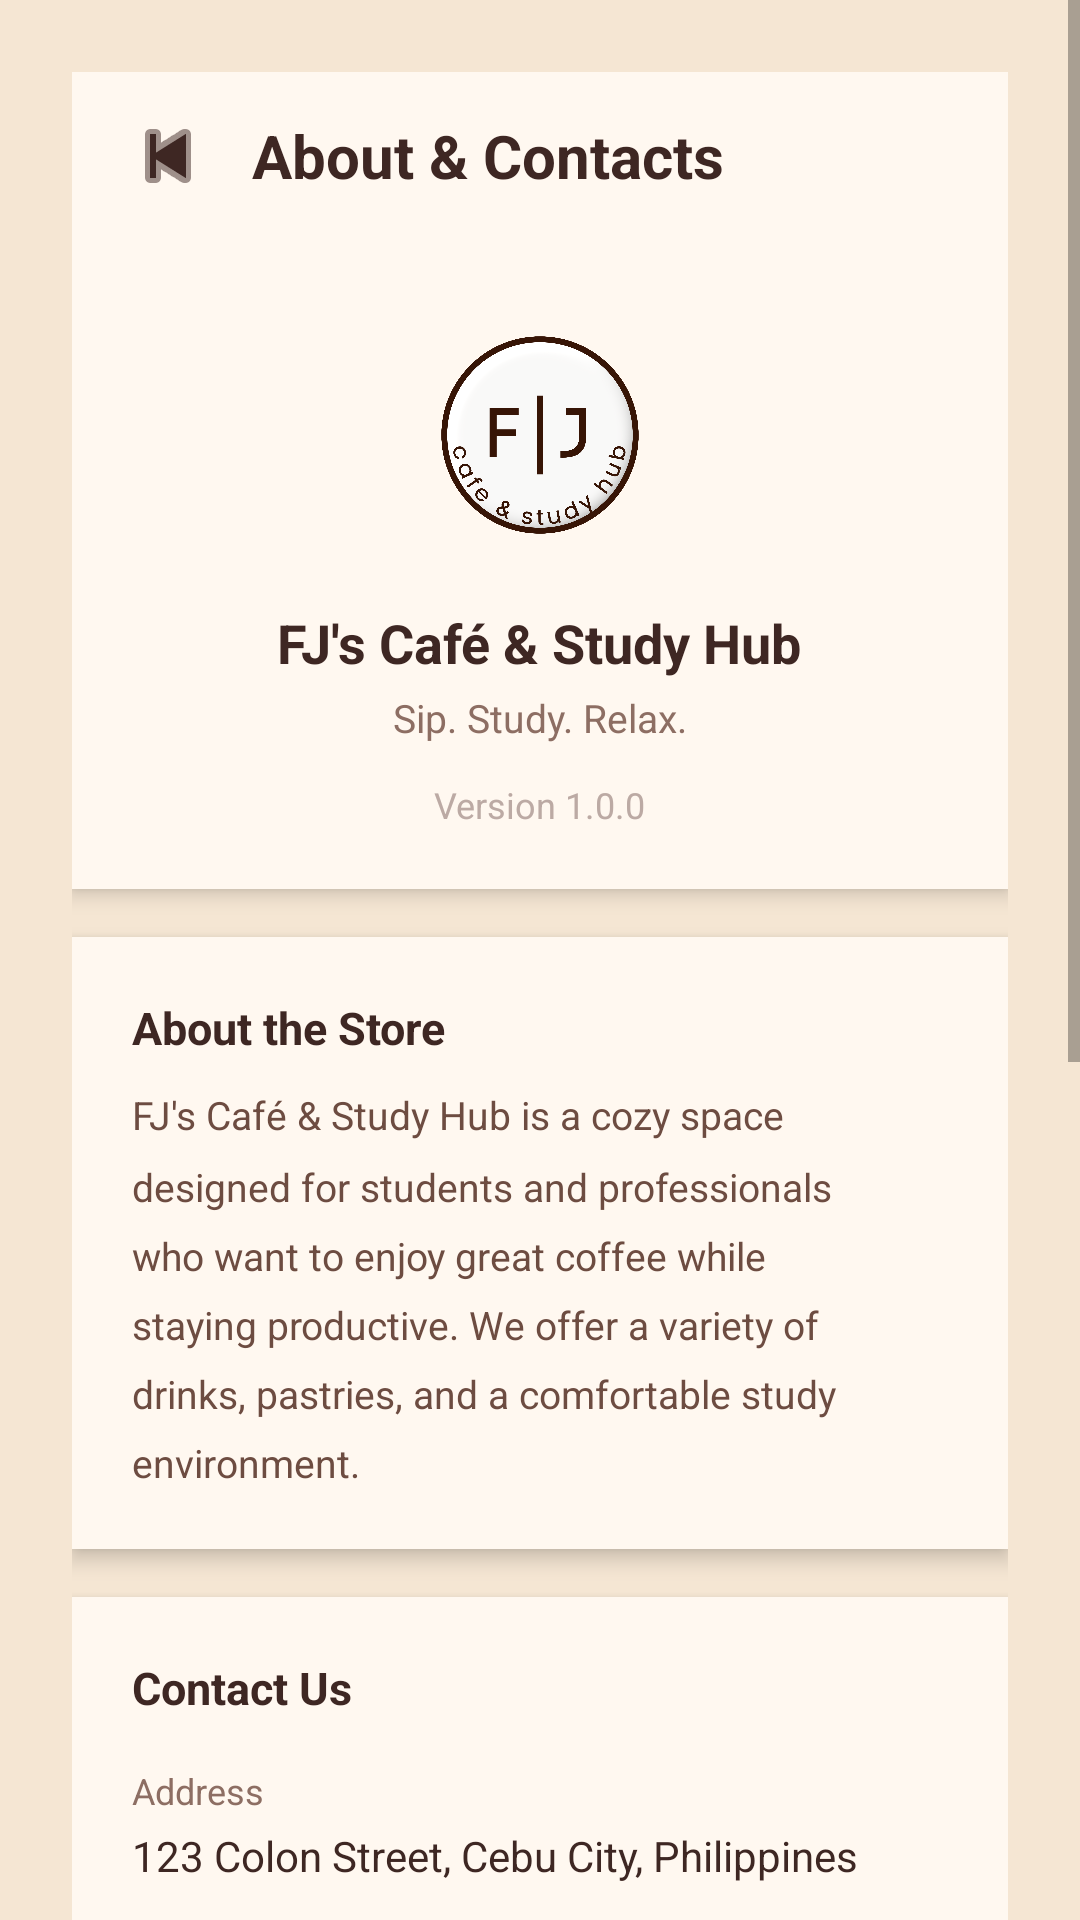

Named icons in this screenshot (1080×1920) and their bounding boxes, (x1, y1, x2, y2):
Back: (145, 129, 191, 183)
